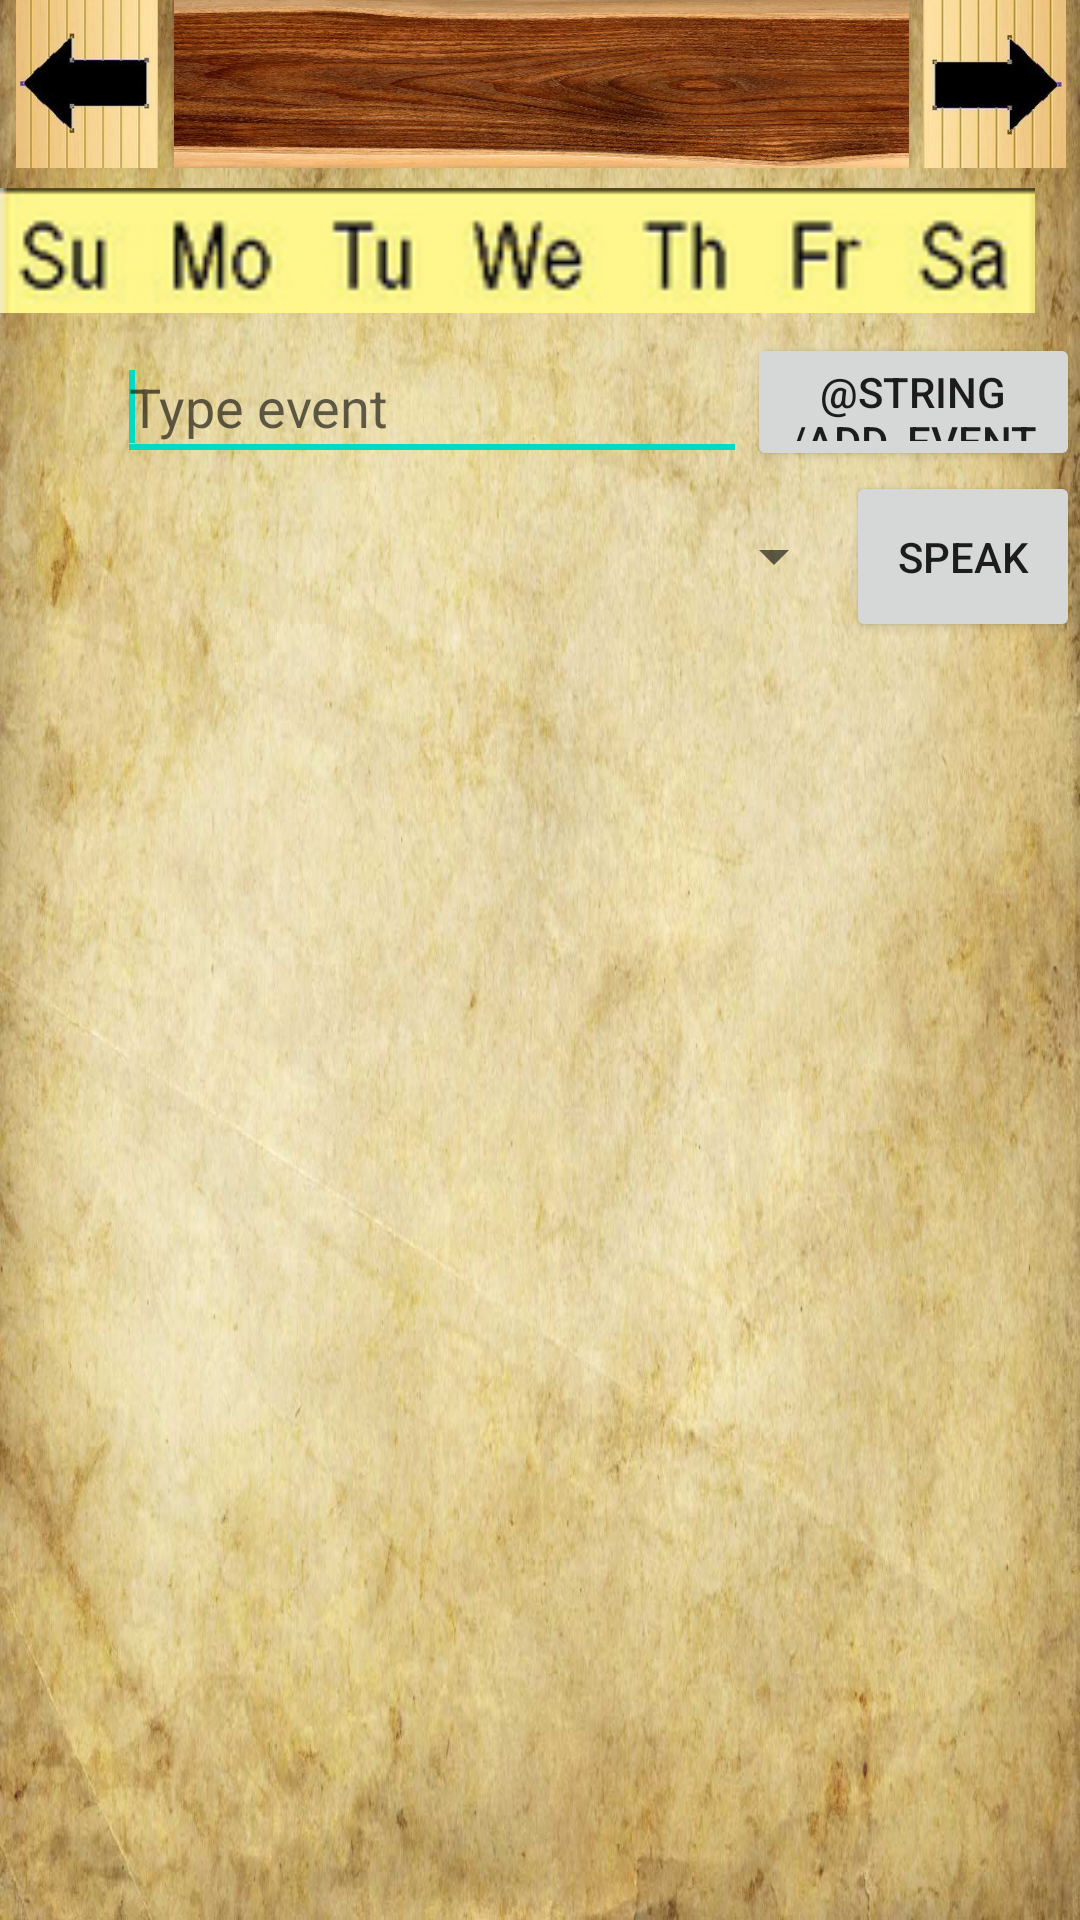

Screen size 1080w x 1920h. Icon name, then its center in pixels as point (x, y):
last: point (87, 84)
next: point (994, 84)
